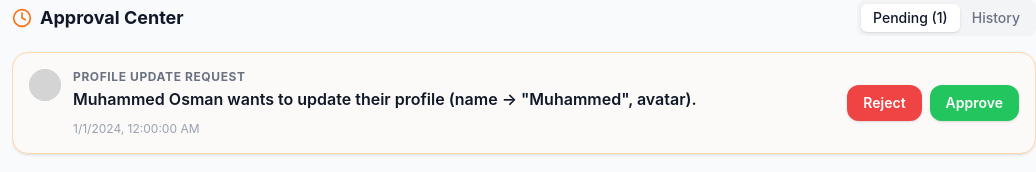
ApprovalCenter interaction contract › rejects a Profile Update Request through the shared flow
Click the button "Reject": [884, 103] box top-left (847, 85), bottom-right (922, 121)
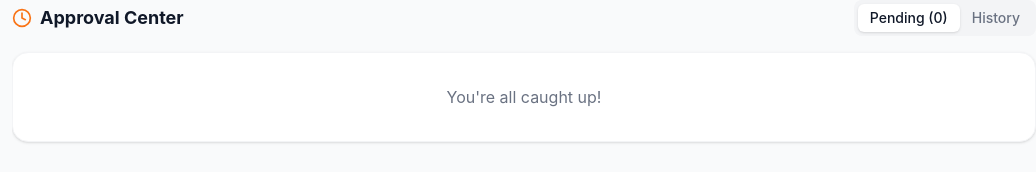
Expected: the text "wants to update their profile" is gone
